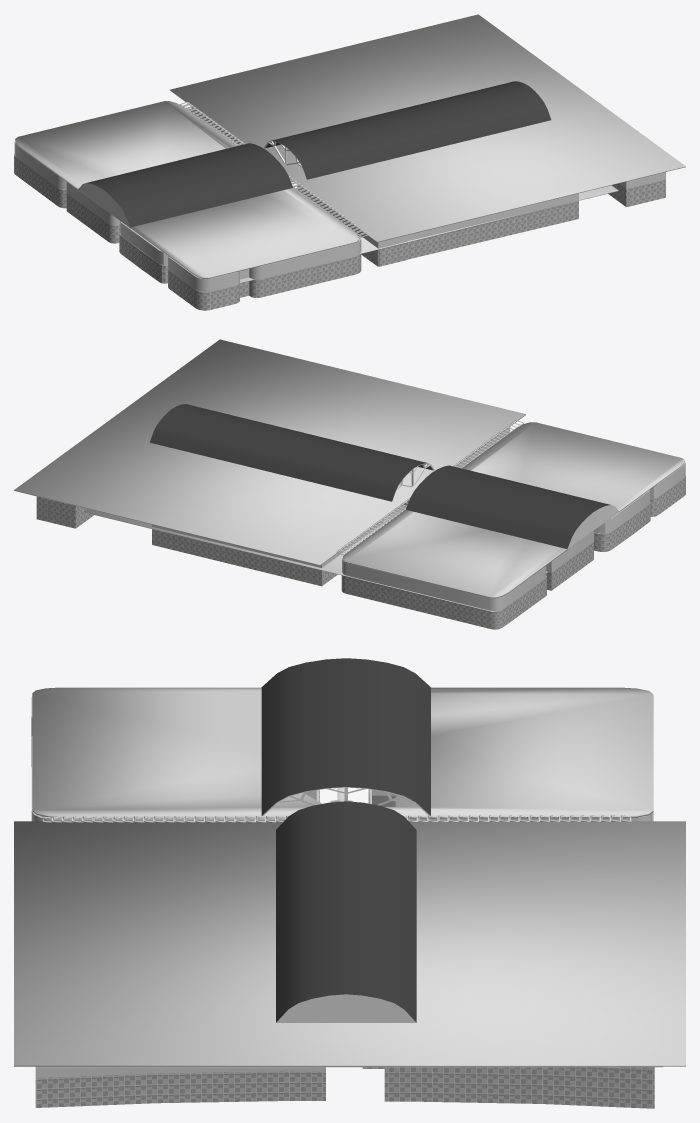
The model's file is kauppakeskus duo.fbx.
3 renders of one model, top to bottom at view 1: azimuth 30°, elevation 25°; view 2: azimuth 150°, elevation 25°; view 3: azimuth 270°, elevation 25°, orthographic. The views are drawn at different scales.
Parts seen in each view (by area): view 1: Cube, katto, Cylinder.002, Plane, Cylinder.001, ker2, Plane.002, Plane.003; view 2: Cube, katto, Cylinder.002, Plane, Cylinder.001, ker2, Plane.003, Plane.002; view 3: Cube, katto, Cylinder.002, Cylinder.001, Plane, ker2, Plane.002.
Part boxes in pixels (box(x1,y1,x2,y2)): Cube: box(169, 14, 685, 242); katto: box(15, 101, 358, 278); Cylinder.002: box(264, 81, 551, 179); Plane: box(14, 153, 665, 310); Cylinder.001: box(77, 143, 293, 228); ker2: box(14, 107, 665, 291); Plane.002: box(179, 101, 369, 237); Plane.003: box(188, 108, 618, 283); Cube: box(14, 339, 525, 565); katto: box(342, 422, 684, 598); Cylinder.002: box(150, 404, 434, 501); Plane: box(36, 475, 685, 629); Cylinder.001: box(406, 465, 619, 549); ker2: box(152, 427, 685, 610); Plane.003: box(84, 432, 600, 612); Plane.002: box(336, 420, 523, 554); Cube: box(14, 821, 685, 1067); katto: box(32, 687, 653, 818); Cylinder.002: box(276, 801, 416, 1022); Cylinder.001: box(261, 658, 430, 815); Plane: box(31, 738, 654, 1108); ker2: box(31, 696, 652, 1078); Plane.002: box(42, 815, 631, 822).
Size of the model in its own units: 36255 by 3678 by 27139.
